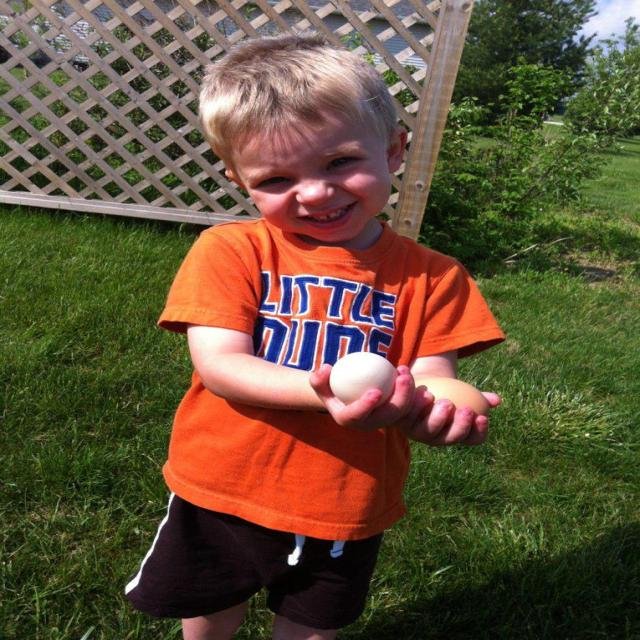Egg: (326, 351, 396, 406), (413, 378, 487, 413)
